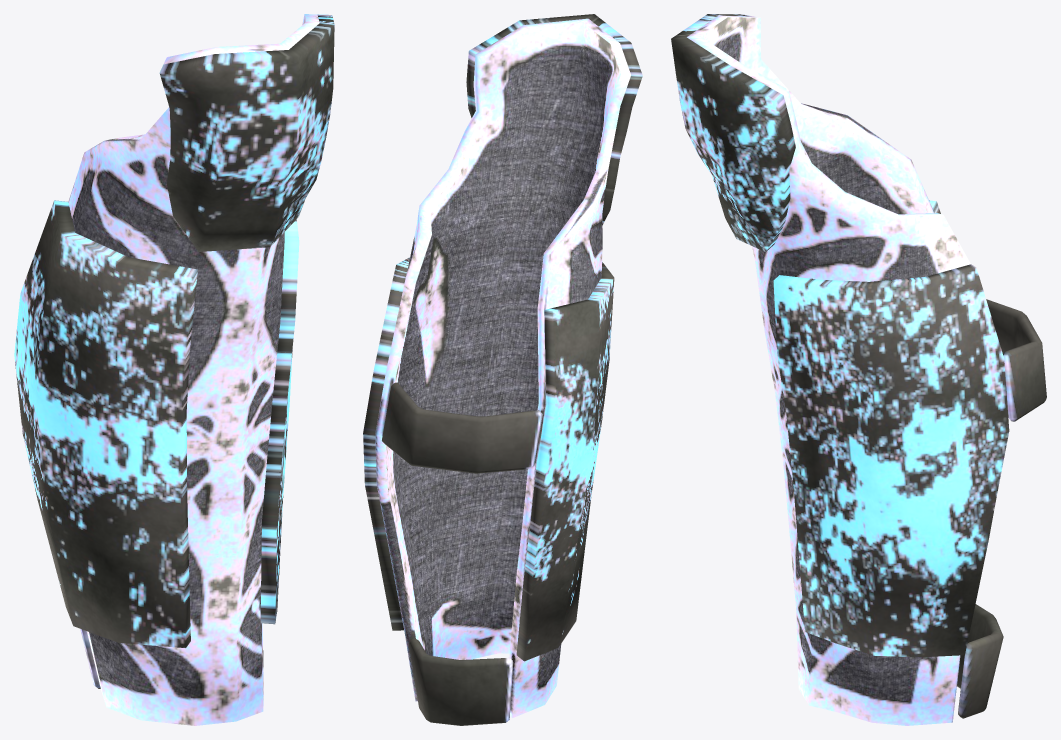
Rendered from holy_greaves.glb.
The picture shows the model from 3 angles, left to right: view 1: azimuth 30°, elevation 25°; view 2: azimuth 150°, elevation 25°; view 3: azimuth 270°, elevation 25°; orthographic projection. The views are drawn at different scales.
Visible parts, largest first — view 1: holy_greaves; view 2: holy_greaves; view 3: holy_greaves.
Boxes of the visible parts, x1,y1,x2,y2 form: holy_greaves: (14, 14, 334, 725); holy_greaves: (363, 14, 642, 725); holy_greaves: (671, 14, 1046, 725).
Size of the model in its own units: 0.1081 by 0.3133 by 0.1607.
1 material, 1 textured.
